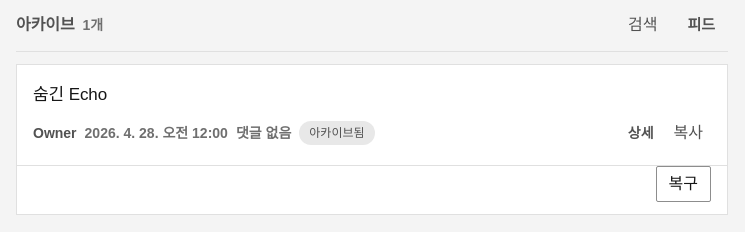
Test: EchoArchivePage › 아카이브 목록을 보여주고 복구 요청을 보낸다
The image size is (745, 232).
Check: the text "숨긴 Echo" is shown, box [33,85,107,104]
Click the button "복구" at x=683, y=184, box [656,166,711,202]
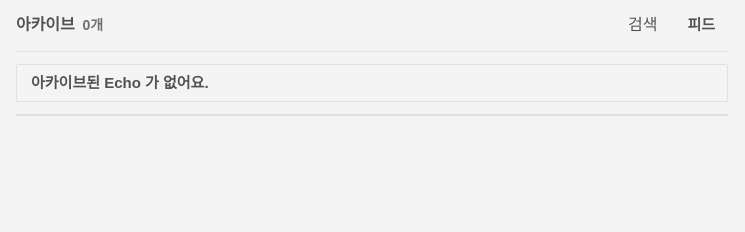
Check: the text "아카이브된 Echo 가 없어요." is shown, box [16,64,728,102]
